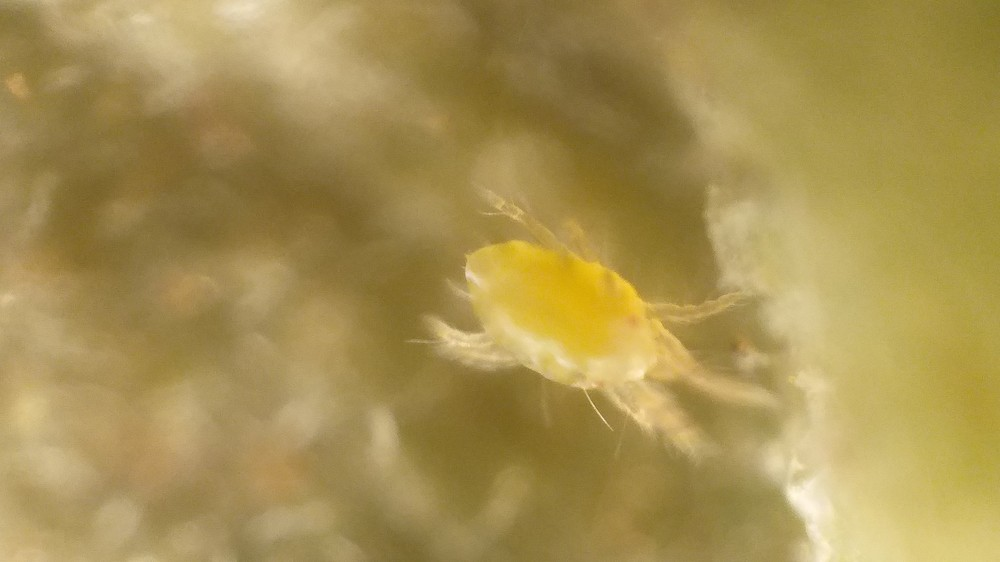Aracnido Rojo: (383, 181, 820, 478)
